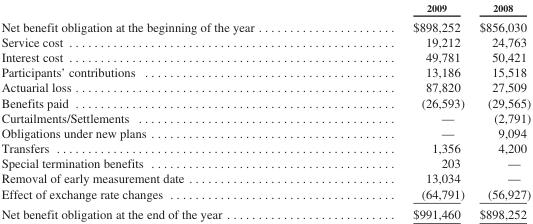table: (0, 1, 530, 220)
table column: (0, 1, 333, 220), (333, 1, 471, 220), (471, 1, 530, 220)
table column header: (0, 1, 530, 16)
table row: (0, 16, 530, 34), (0, 185, 530, 203), (0, 203, 530, 220), (0, 109, 530, 125), (0, 1, 530, 16), (0, 34, 530, 49), (0, 49, 530, 64), (0, 64, 530, 79), (0, 79, 530, 94), (0, 94, 530, 109), (0, 125, 530, 140), (0, 140, 530, 155), (0, 155, 530, 170), (0, 170, 530, 185)
